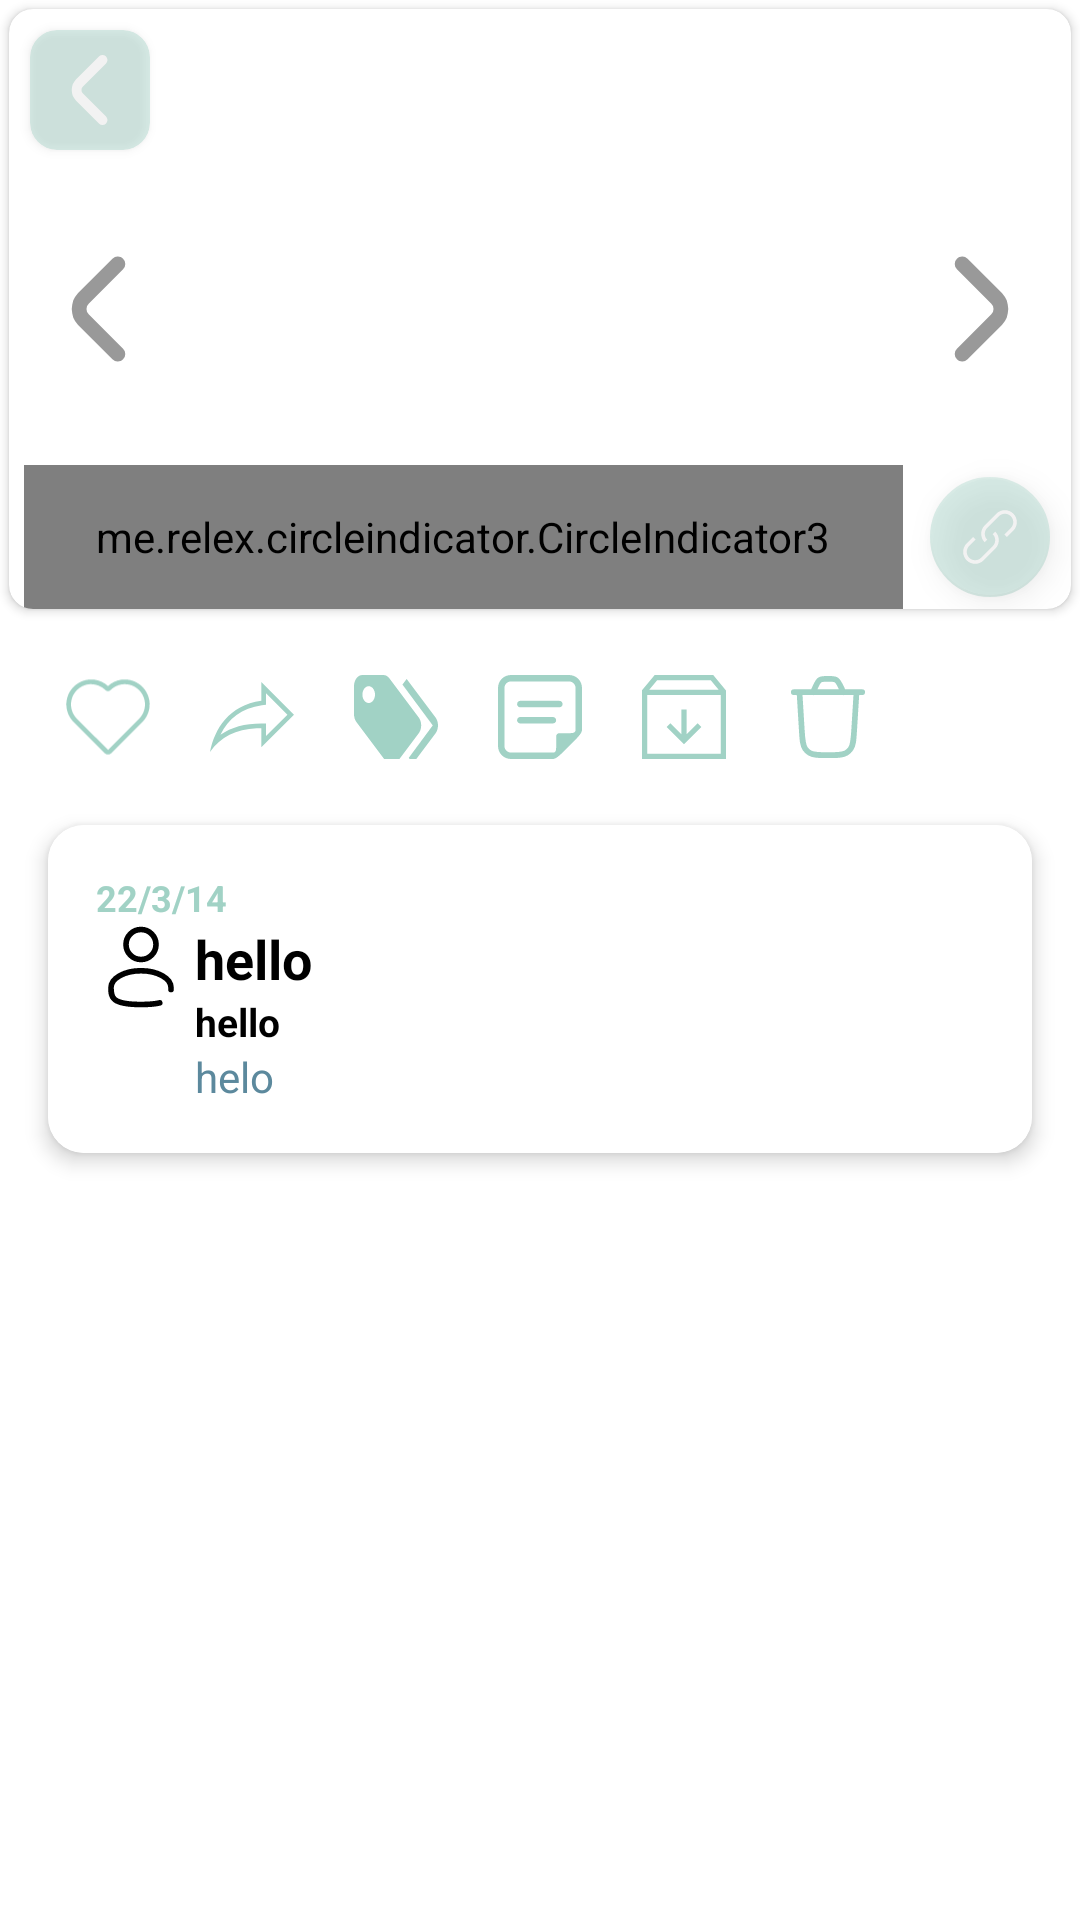

Icons on this 1080 x 1920 Android screen, each with the point to tap as [x,y]:
archived: [684,717]
delete: [828,717]
favorite: [108,717]
link: [990,537]
note: [540,717]
share: [252,717]
tags: [396,717]
user: [141,967]
